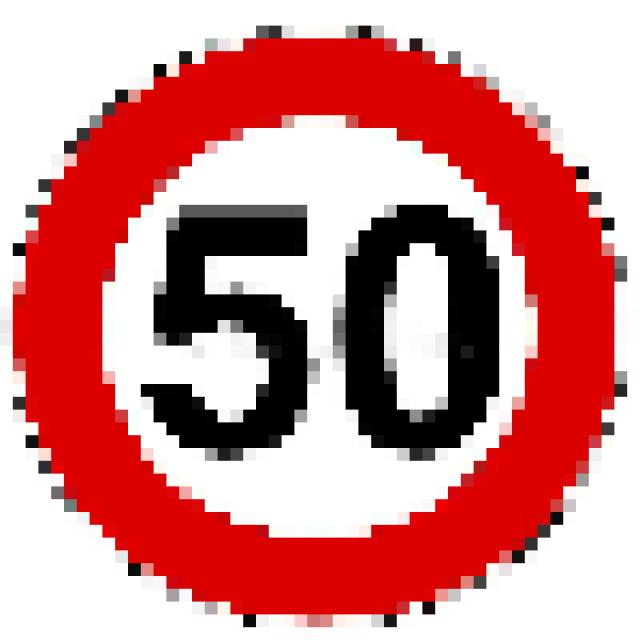Limite-50: (9, 17, 632, 635)
